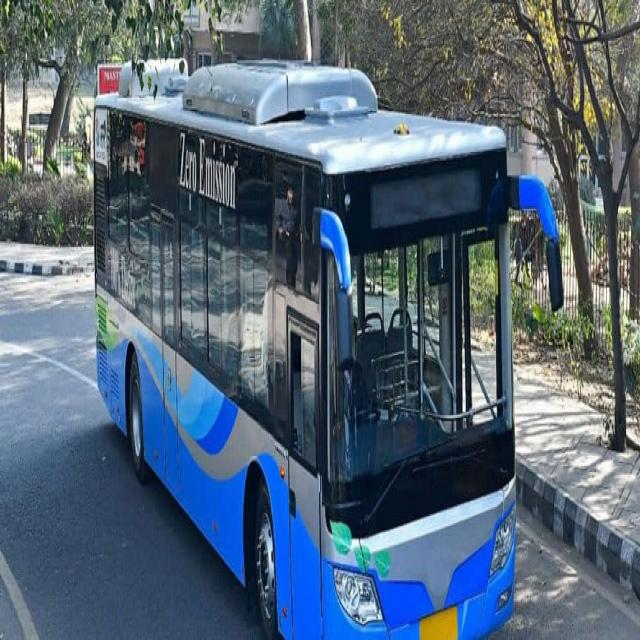BUS: (51, 54, 525, 576)
